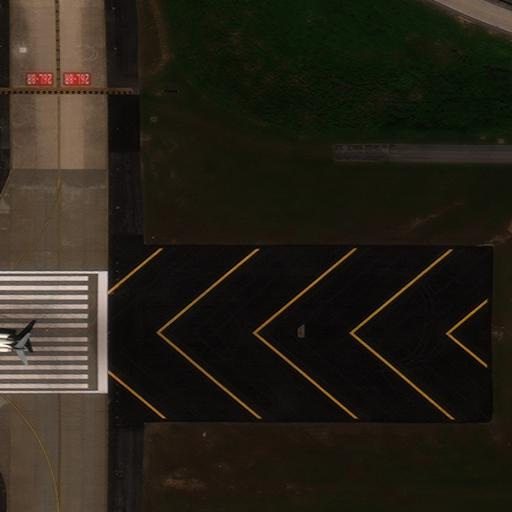Medium Civil Transport: (0, 310, 31, 369)
